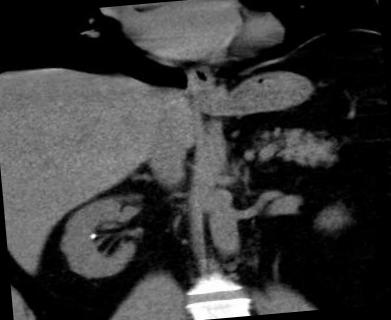Tas_Var: (86, 230, 98, 242)
